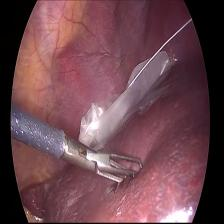Grasper: (84, 150, 159, 178)
Specimen Bag: (76, 22, 187, 146)
